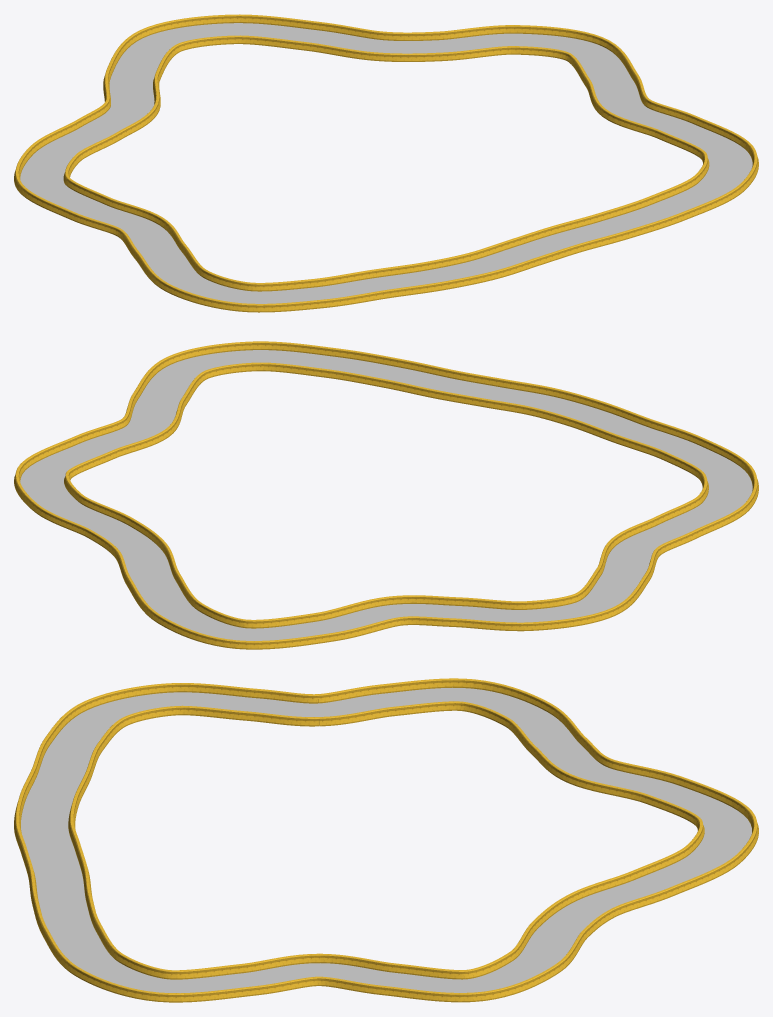
The model's file is Track03.fbx.
The picture shows the model from 3 angles, top to bottom: view 1: azimuth 30°, elevation 25°; view 2: azimuth 150°, elevation 25°; view 3: azimuth 270°, elevation 25°; orthographic projection. The views are drawn at different scales.
Visible parts, largest first — view 1: Track3, Barrier3; view 2: Track3, Barrier3; view 3: Track3, Barrier3.
Boxes of the visible parts, box(x1,y1,x2,y2) form: Track3: box(20, 23, 752, 303); Barrier3: box(14, 14, 758, 312); Track3: box(20, 350, 752, 640); Barrier3: box(14, 341, 758, 649); Track3: box(21, 687, 751, 993); Barrier3: box(14, 678, 758, 1002).
Size of the model in its own units: 55292 by 54806 by 604.
